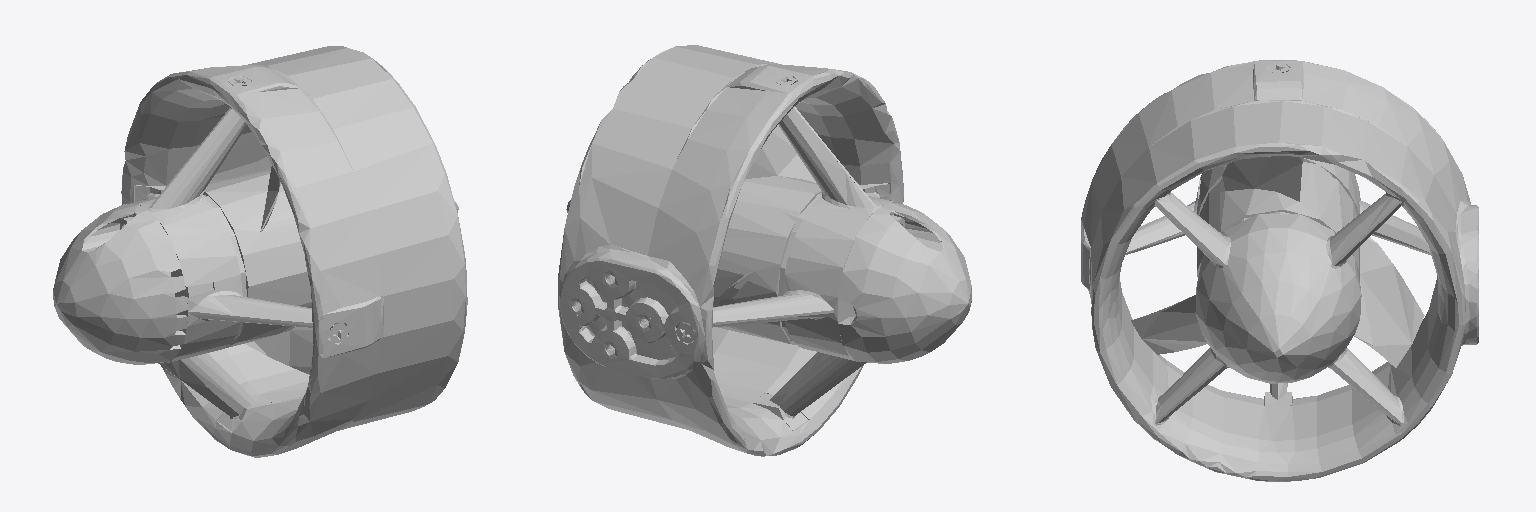
File: thruster.obj
3 renders of one model, left to right at view 1: azimuth 30°, elevation 25°; view 2: azimuth 150°, elevation 25°; view 3: azimuth 270°, elevation 25°, orthographic.
Size of the model in its own units: 0.1127 by 0.0966 by 0.0973.